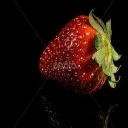strawberry: (36, 13, 119, 97)
